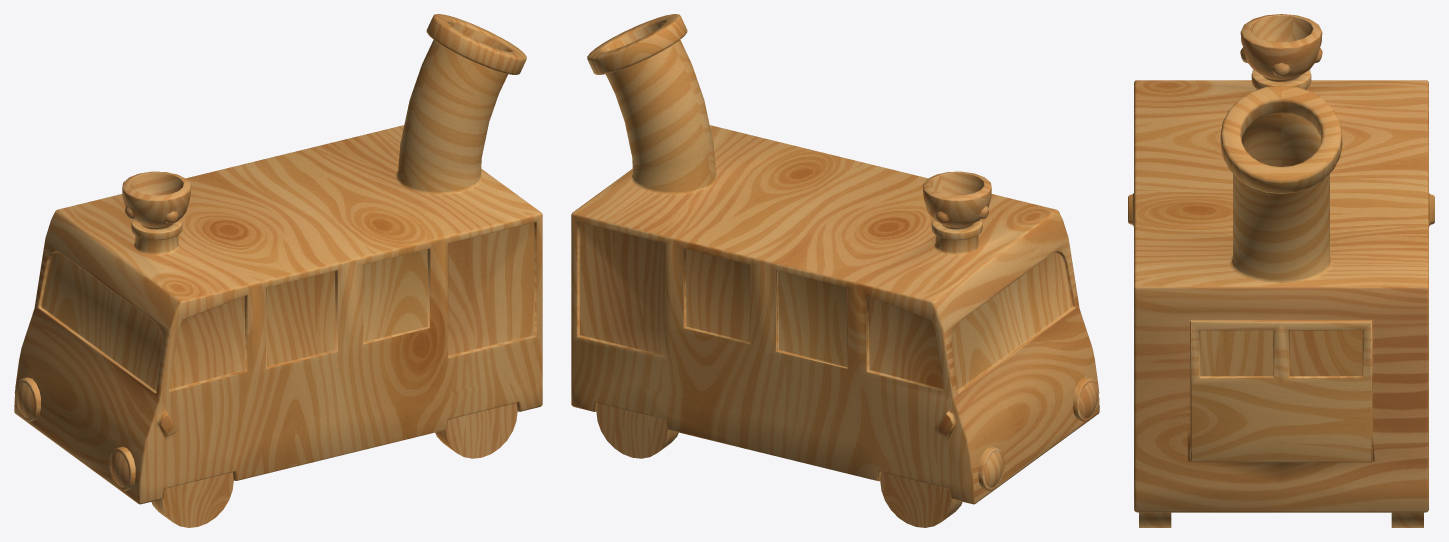
Rendered from Boong_V01.fbx.
3 views of the same model, side by side, from view 1: azimuth 30°, elevation 25°; view 2: azimuth 150°, elevation 25°; view 3: azimuth 270°, elevation 25° (orthographic). The views are drawn at different scales.
Visible parts, largest first — view 1: Boong_V01; view 2: Boong_V01; view 3: Boong_V01.
Part boxes in pixels (x1,y1,x2,y2): Boong_V01: (14,14,542,527); Boong_V01: (571,14,1099,527); Boong_V01: (1128,14,1434,527).
Bounding box in the file's own units: 42.21 × 34.39 × 21.24.
